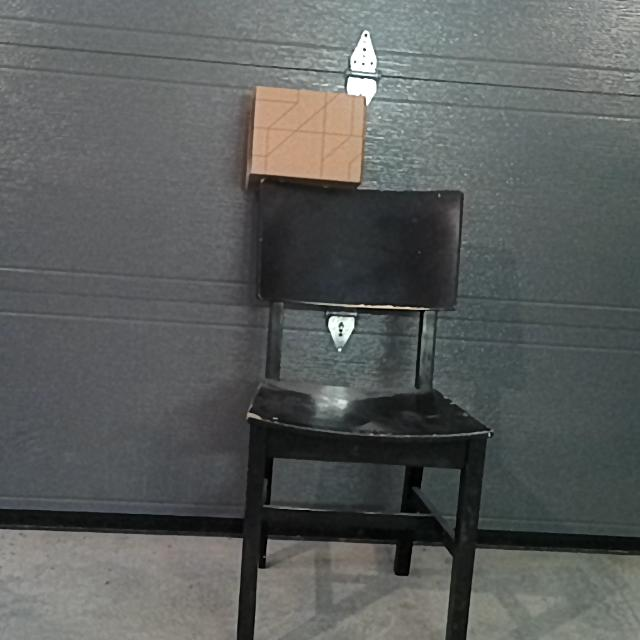box: (255, 92, 365, 177)
